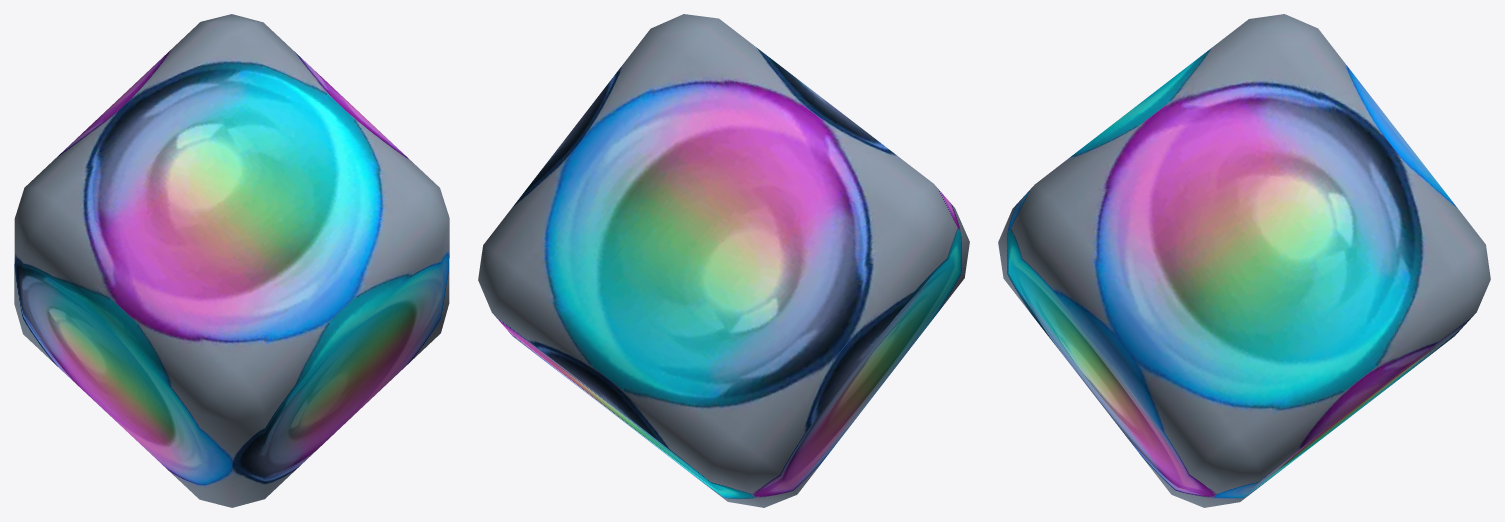
3 views of the same model, side by side, from view 1: azimuth 30°, elevation 25°; view 2: azimuth 150°, elevation 25°; view 3: azimuth 270°, elevation 25° (orthographic). The views are drawn at different scales.
Visible parts, largest first — view 1: Mesh01; view 2: Mesh01; view 3: Mesh01.
Boxes of the visible parts, x1,y1,x2,y2 form: Mesh01: [14, 14, 449, 507]; Mesh01: [478, 14, 969, 507]; Mesh01: [998, 14, 1490, 507].
Size of the model in its own units: 3.38 by 3.55 by 3.23.
2 materials, 2 textured.
